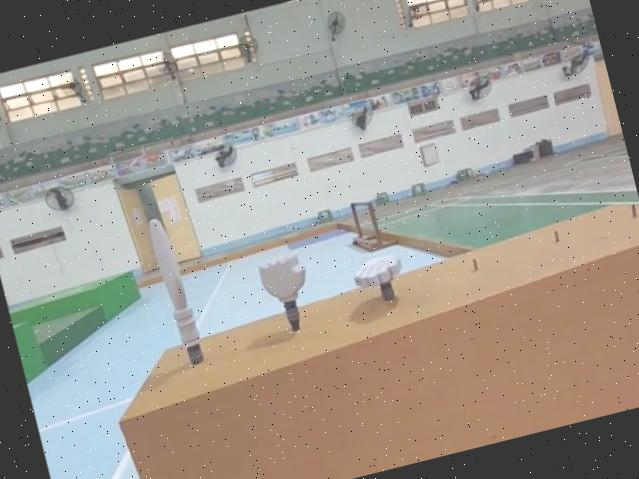Fist: (253, 244, 320, 338)
Hand: (347, 248, 410, 308)
Sph: (140, 213, 206, 374)
